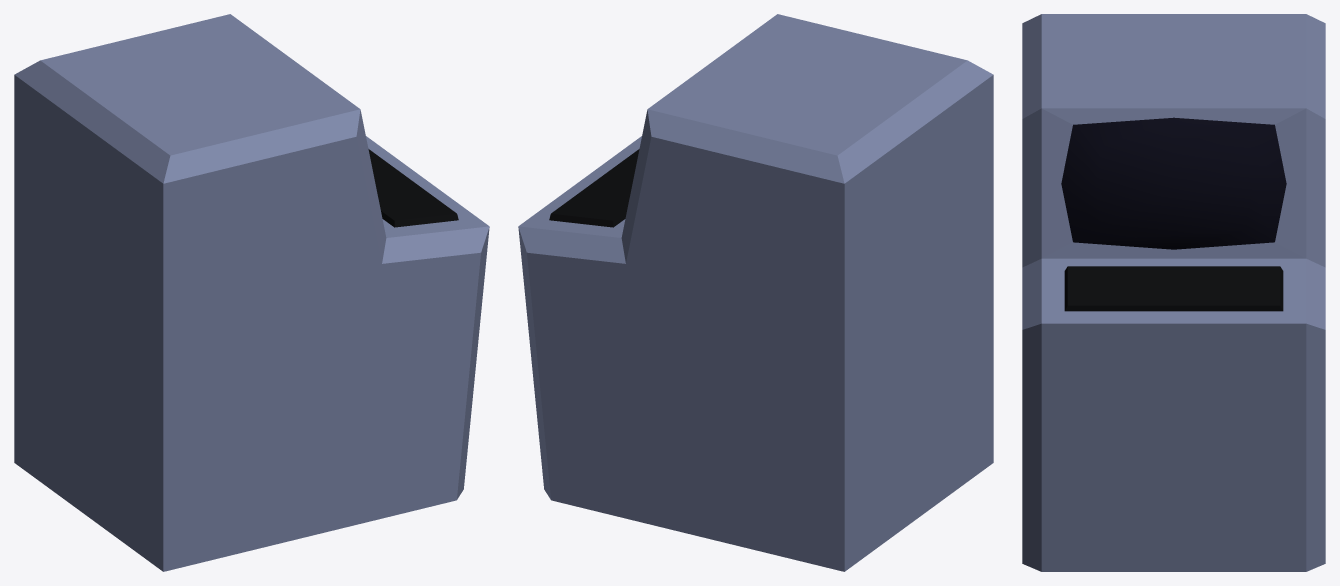
File: Terminal.obj
3 views of the same model, side by side, from view 1: azimuth 30°, elevation 25°; view 2: azimuth 150°, elevation 25°; view 3: azimuth 270°, elevation 25° (orthographic).
Parts seen in each view (by area): view 1: Terminal; view 2: Terminal; view 3: Terminal.
Boxes of the visible parts, x1,y1,x2,y2 form: Terminal: (14,14,489,571); Terminal: (518,14,993,571); Terminal: (1022,14,1325,571).
Bounding box in the file's own units: 2.6 × 3 × 2.
